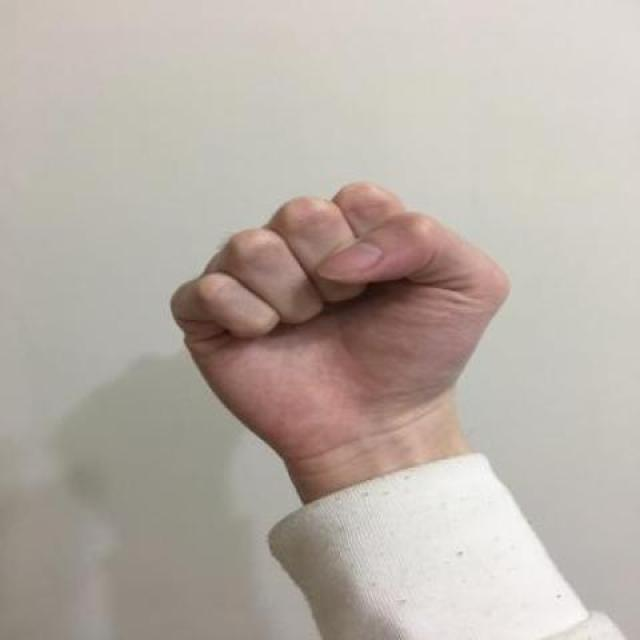fist: (167, 146, 517, 458)
